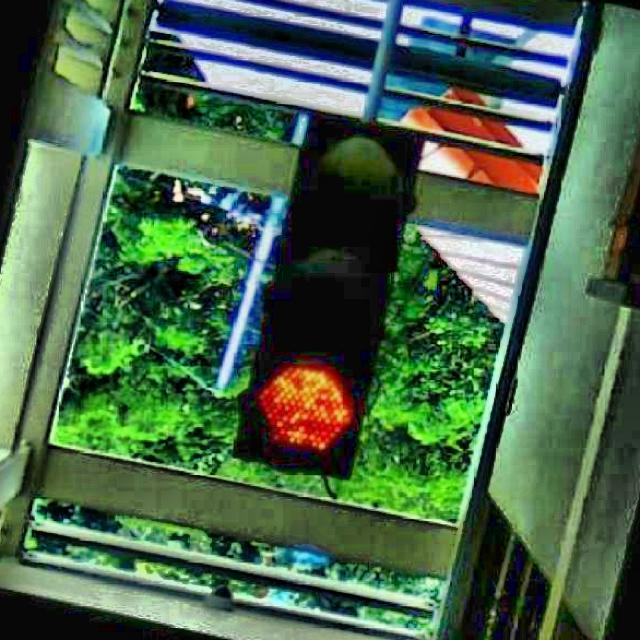red: (241, 129, 414, 466)
